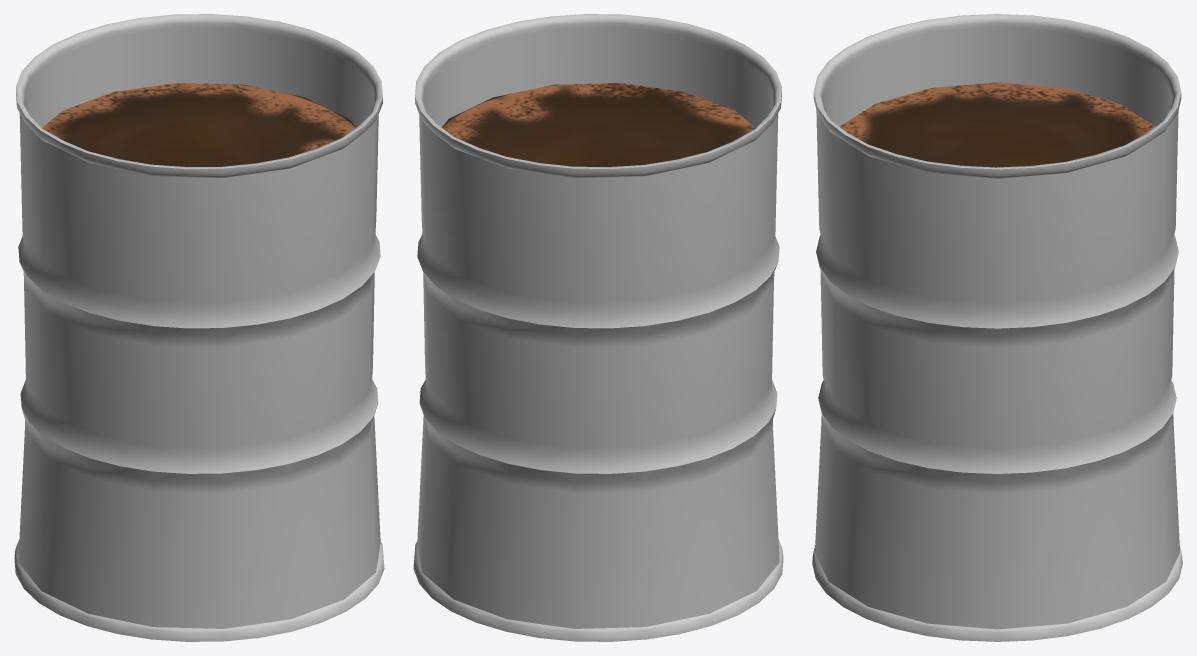
File: barrel_opened_HIGH_UV.fbx
3 renders of one model, left to right at view 1: azimuth 30°, elevation 25°; view 2: azimuth 150°, elevation 25°; view 3: azimuth 270°, elevation 25°, orthographic.
Parts seen in each view (by area): view 1: barrel, Disc; view 2: barrel, Disc; view 3: barrel, Disc.
Part boxes in pixels (<box>): barrel: <box>14,14,384,641</box>; Disc: <box>42,83,355,166</box>; barrel: <box>413,14,783,641</box>; Disc: <box>442,83,755,166</box>; barrel: <box>812,14,1182,641</box>; Disc: <box>839,82,1155,167</box>.
Size of the model in its own units: 102 by 144 by 102.
